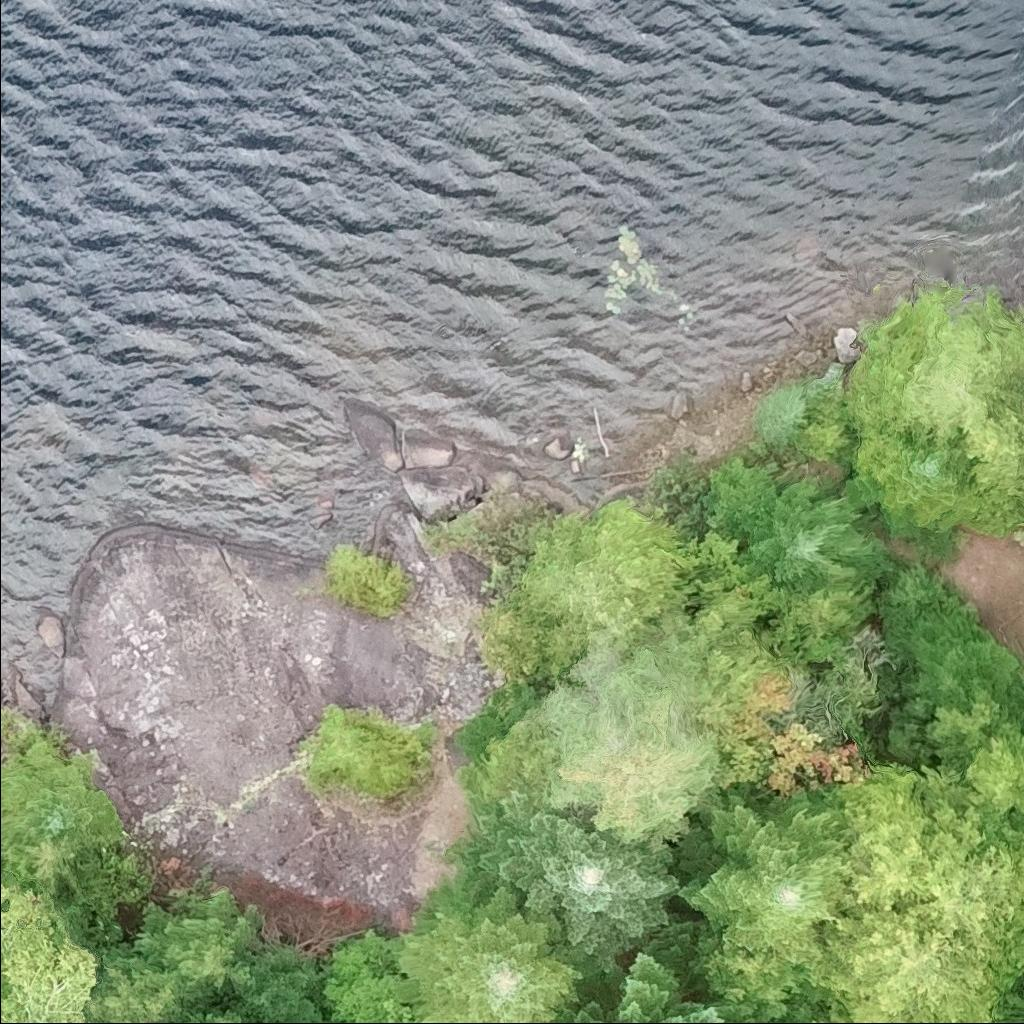crown: (820, 766, 1023, 1023), (853, 281, 1023, 500), (470, 796, 678, 973), (677, 794, 847, 945), (524, 502, 688, 644), (402, 895, 578, 1023), (738, 677, 870, 788), (748, 480, 872, 594), (856, 423, 981, 532), (925, 688, 1023, 816), (550, 951, 718, 1023), (707, 1003, 760, 1023)
